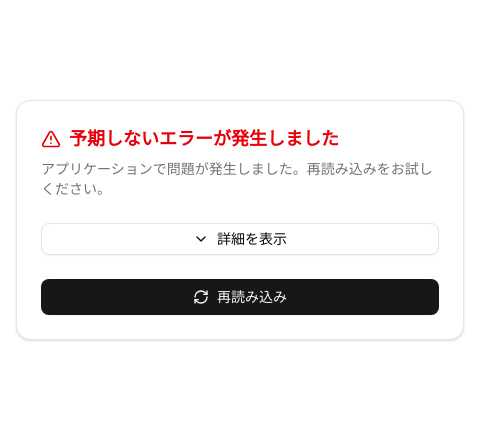
Test: ErrorBoundary › displays error details when toggle button is clicked
Click the button "詳細を表示" at (240, 239), box [41,223,439,255]
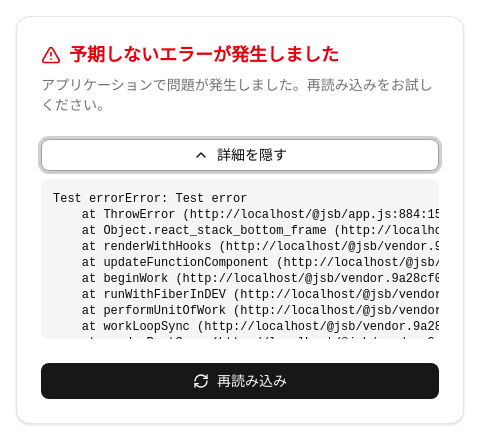
Check: the button "詳細を隠す" is shown, box [41,139,439,171]
